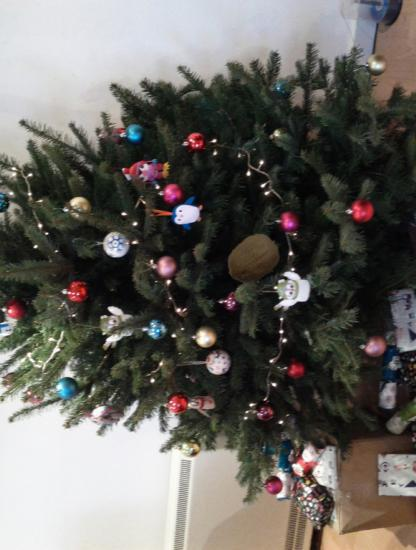Kiwi: (226, 231, 283, 288)
